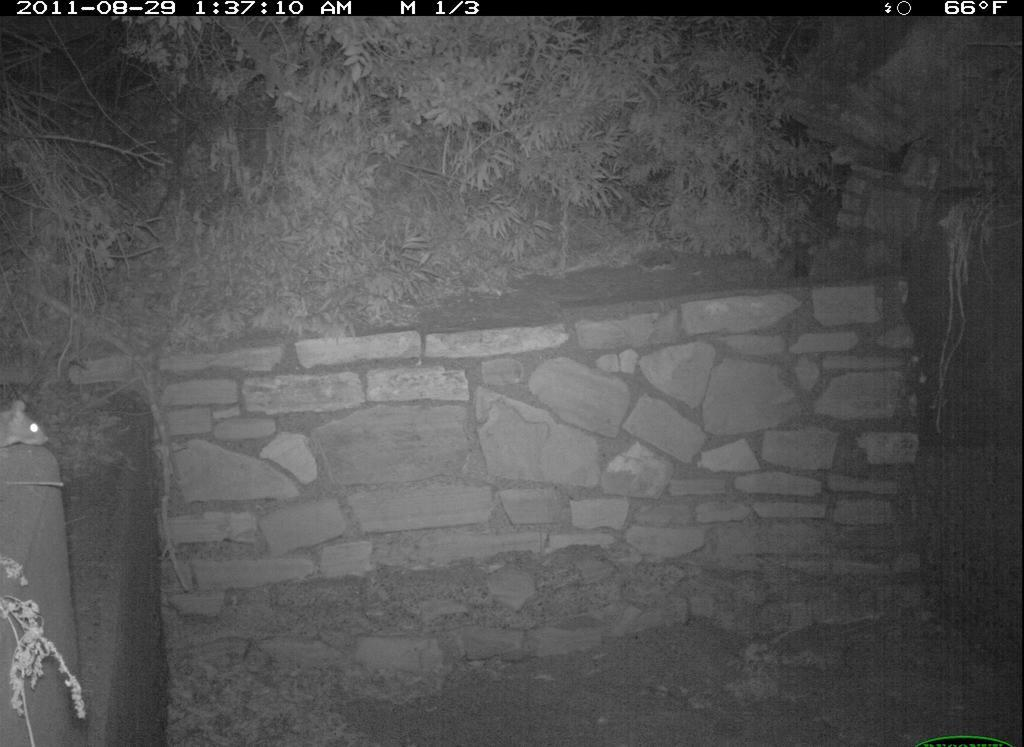rodent: (2, 385, 62, 463)
